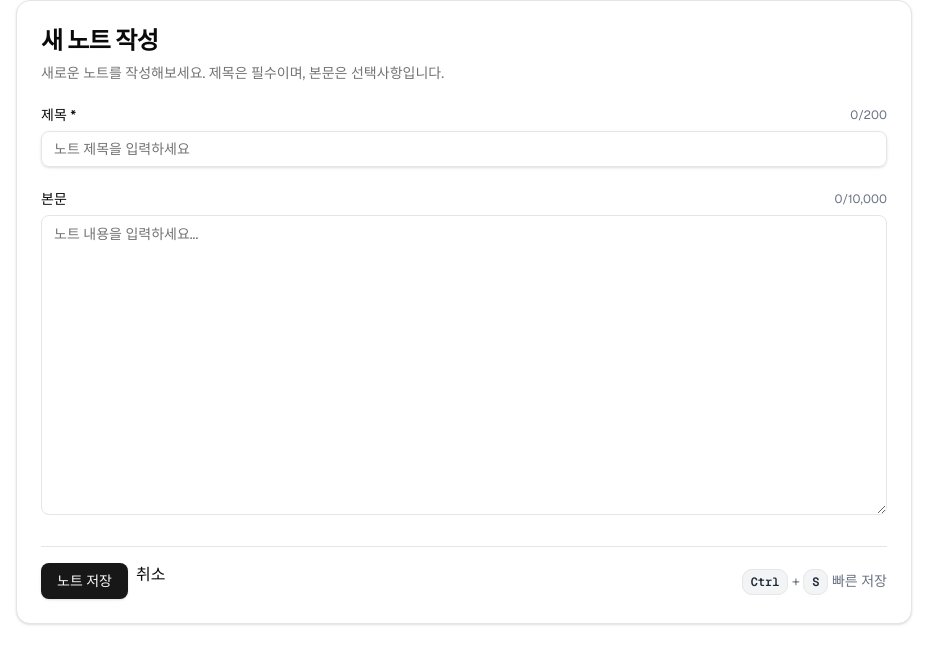
Test: NoteForm › validates required title field
Step 1. Click the button "노트 저장" → [84, 581], box [41,563,128,599]
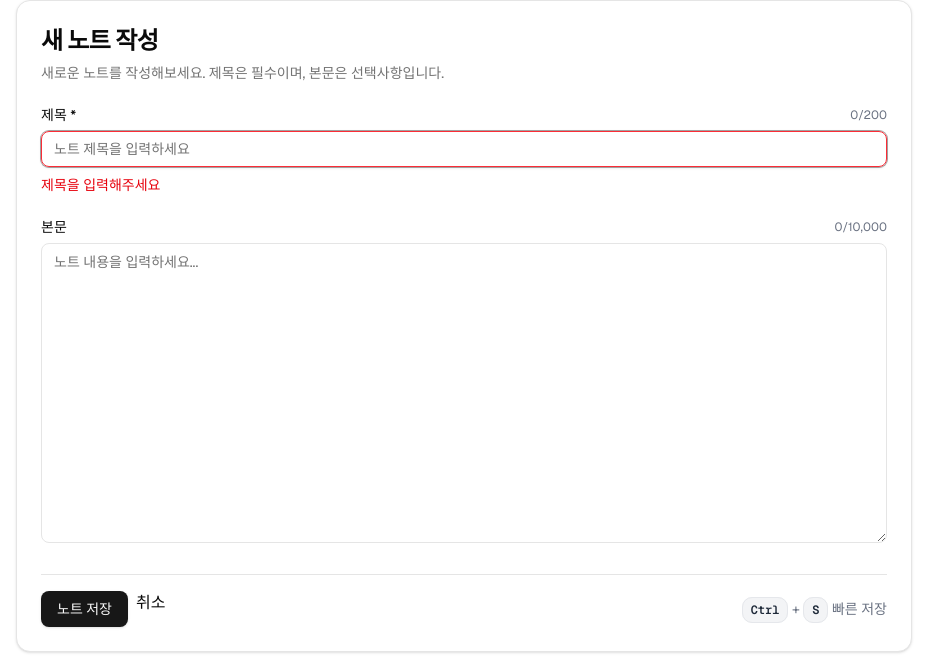
Now the text "제목을 입력해주세요" is shown, box [41,176,160,194]
